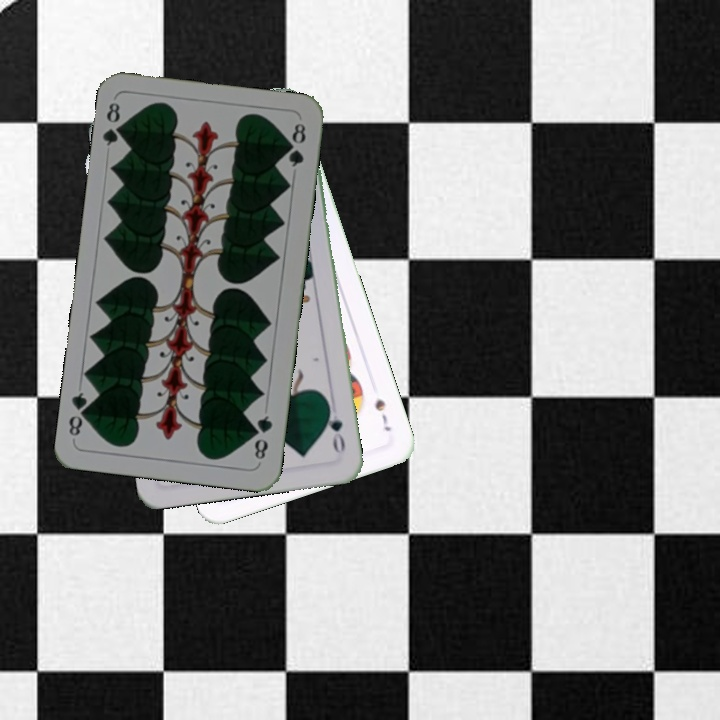G8: (99, 98, 128, 149), (250, 411, 275, 465)
GO: (322, 400, 348, 458)
S7: (371, 394, 394, 434)
